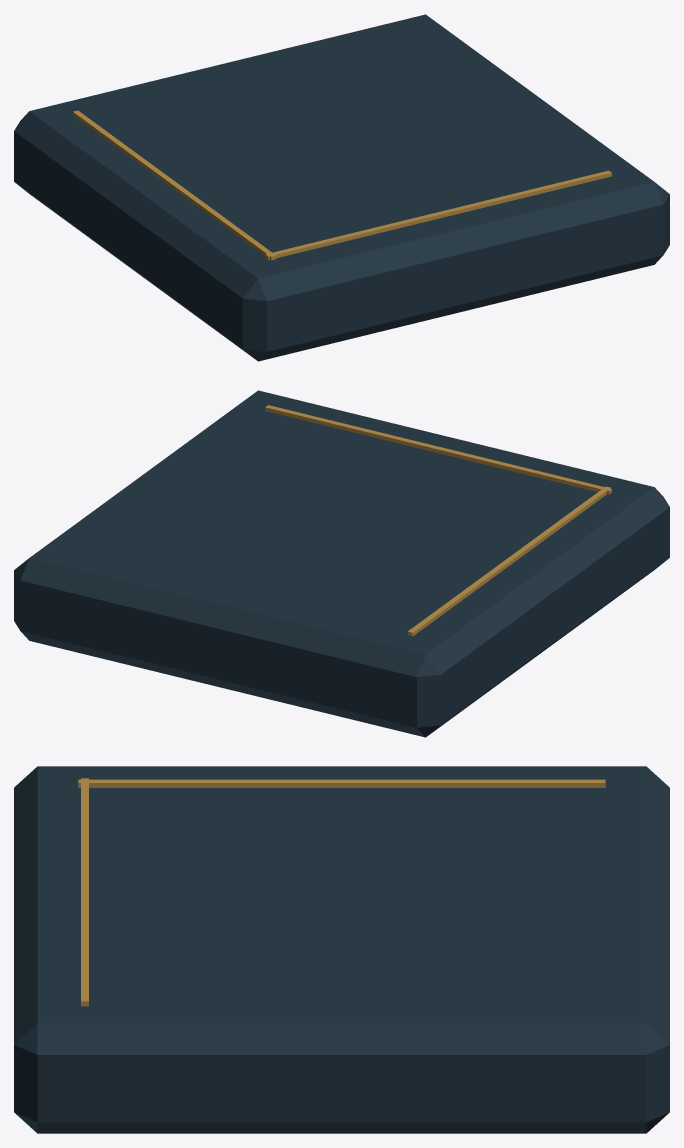
The model's file is tile-floor.glb.
3 views of the same model, one above another, from view 1: azimuth 30°, elevation 25°; view 2: azimuth 150°, elevation 25°; view 3: azimuth 270°, elevation 25° (orthographic). The views are drawn at different scales.
Parts seen in each view (by area): view 1: tile-floor; view 2: tile-floor; view 3: tile-floor.
Boxes of the visible parts, x1,y1,x2,y2 form: tile-floor: (14, 14, 669, 361); tile-floor: (14, 390, 669, 737); tile-floor: (14, 766, 669, 1133).
Bounding box in the file's own units: 0.97 × 0.188 × 0.97.
